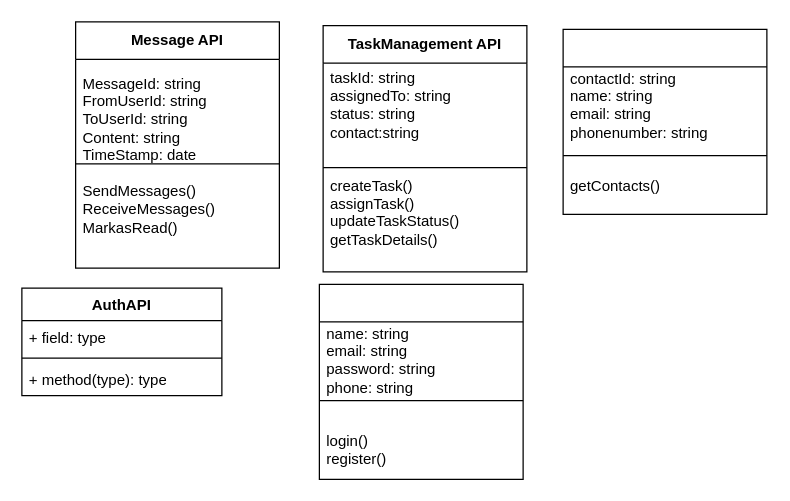
Image size: 790x501. Some labels were removed from this diagram. The box of each missing label's shape, as (x1, y1, x2, y2) in pixels:
Auth API: (318, 283, 523, 479)
contacts API: (562, 28, 767, 214)
